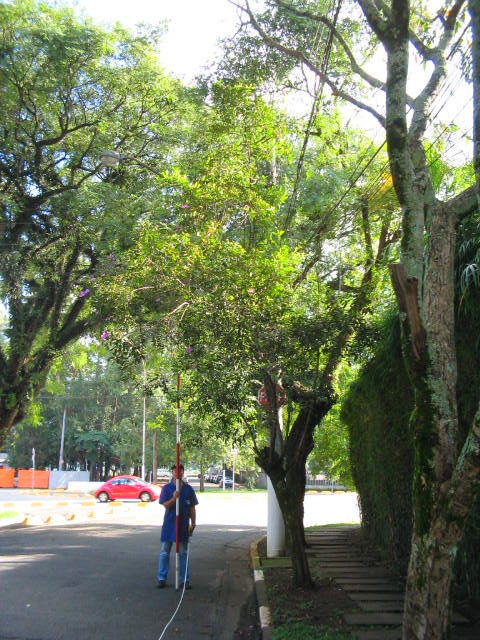stem: (268, 484, 321, 588)
stick: (170, 372, 187, 590)
